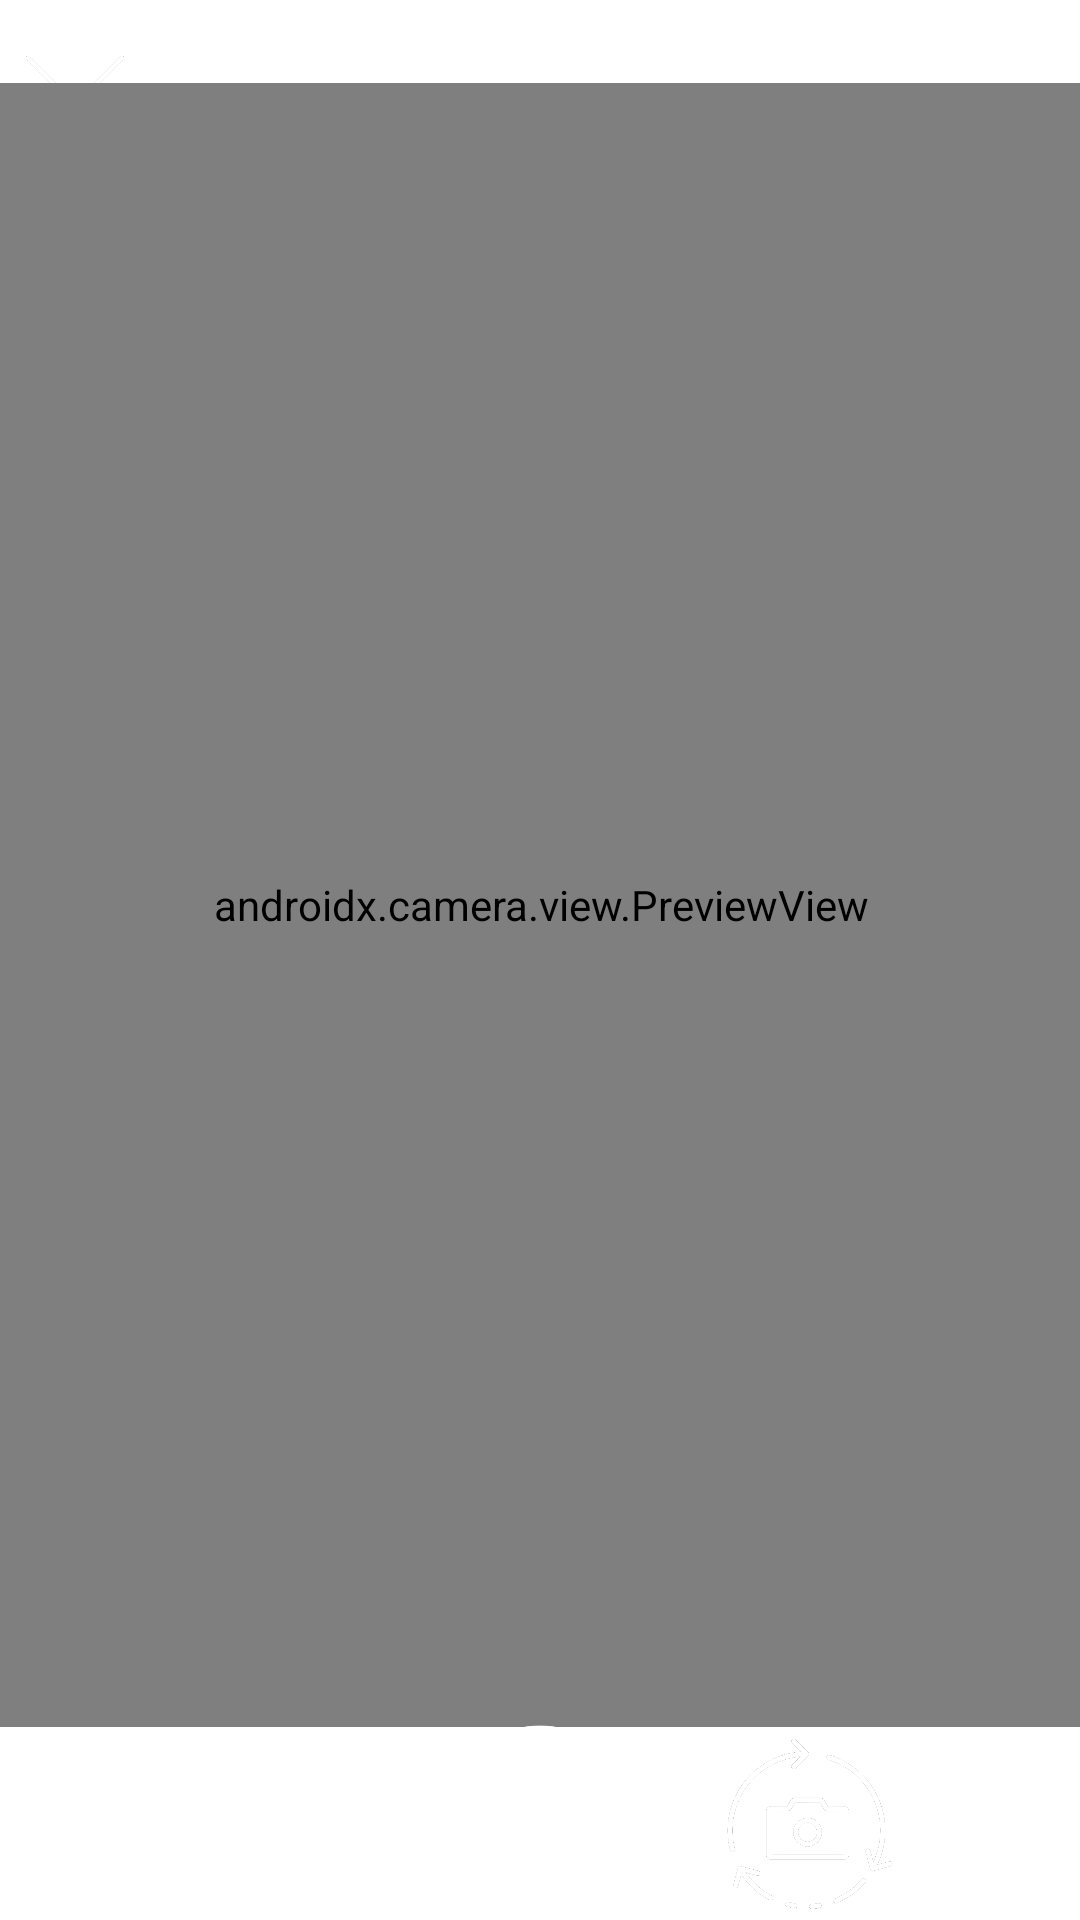

Point at icon controls on the screen. Image size 1080*1920, points as point (x, y).
camera switch: point (809, 1824)
